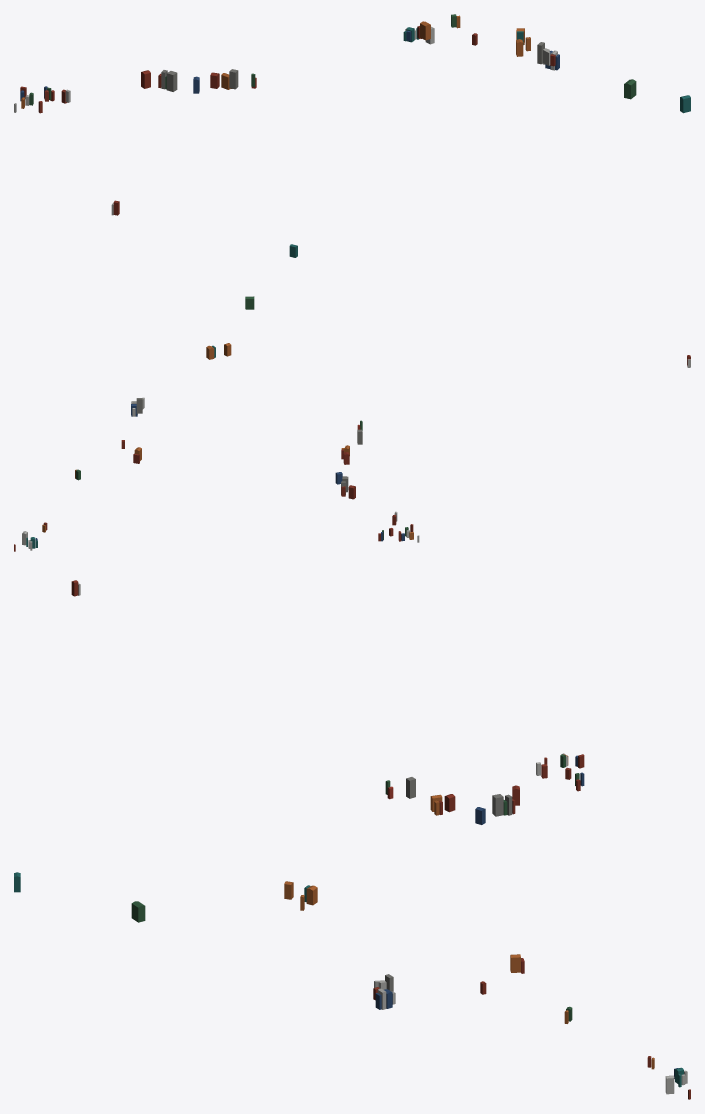
The model's file is near-15-27370-14868.711fdcc1.glb.
The picture shows the model from 3 angles, top to bottom: view 1: azimuth 30°, elevation 25°; view 2: azimuth 150°, elevation 25°; view 3: azimuth 270°, elevation 25°; orthographic projection. The views are drawn at different scales.
Bounding box in the file's own units: 936 × 286 × 850.
